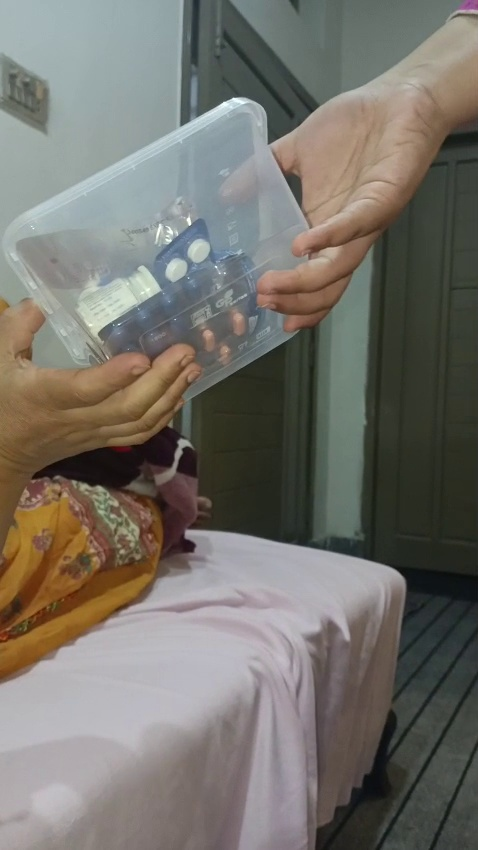medicine box: (14, 97, 327, 398)
